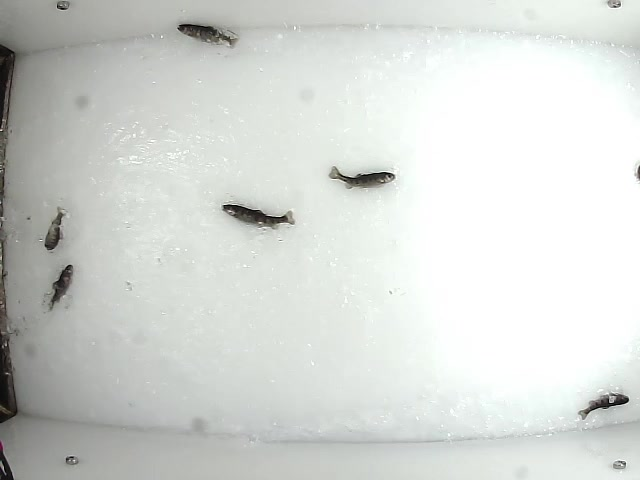fish: (220, 203, 296, 230), (325, 163, 396, 189), (576, 390, 633, 421), (174, 22, 240, 47), (46, 263, 72, 314), (42, 202, 67, 251)
